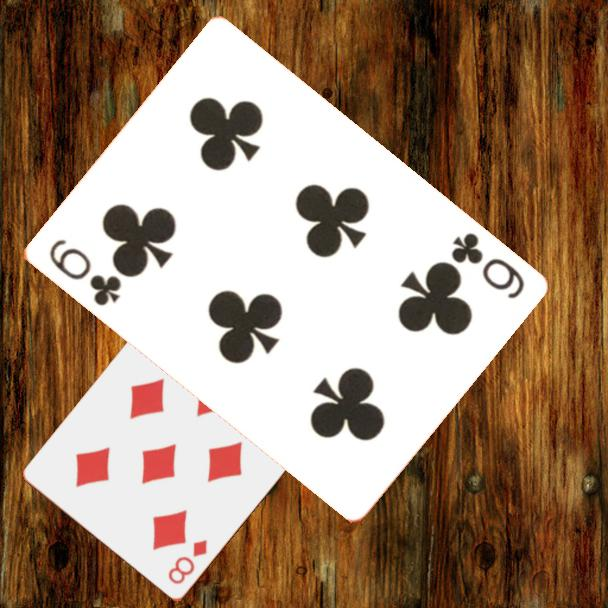c06: (44, 235, 124, 310), (447, 229, 527, 302)
d08: (164, 536, 210, 588)
